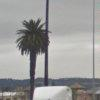Palm tree: (16, 13, 47, 95)
